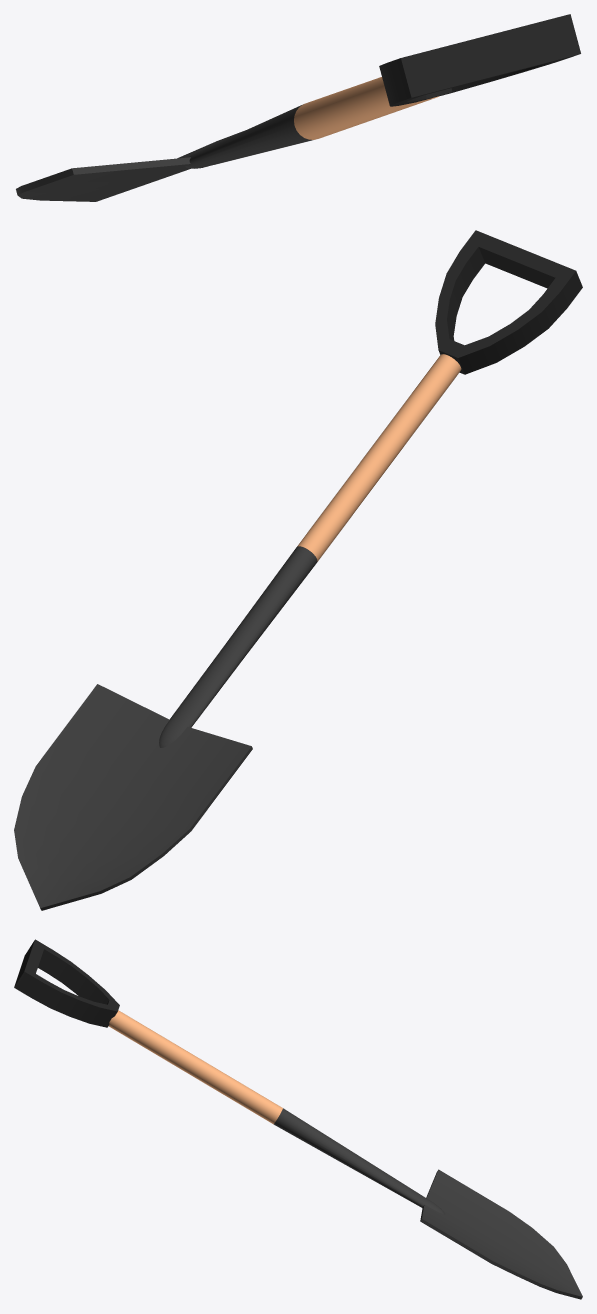
File: Spade.gltf
3 views of the same model, one above another, from view 1: azimuth 30°, elevation 25°; view 2: azimuth 150°, elevation 25°; view 3: azimuth 270°, elevation 25° (orthographic). The views are drawn at different scales.
Parts seen in each view (by area): view 1: node-0; view 2: node-0; view 3: node-0.
Boxes of the visible parts, x1=… form: node-0: x1=16, y1=14, x2=580, y2=201; node-0: x1=14, y1=230, x2=582, y2=910; node-0: x1=14, y1=939, x2=582, y2=1299.
Size of the model in its own units: 131590 by 228427 by 382650.
